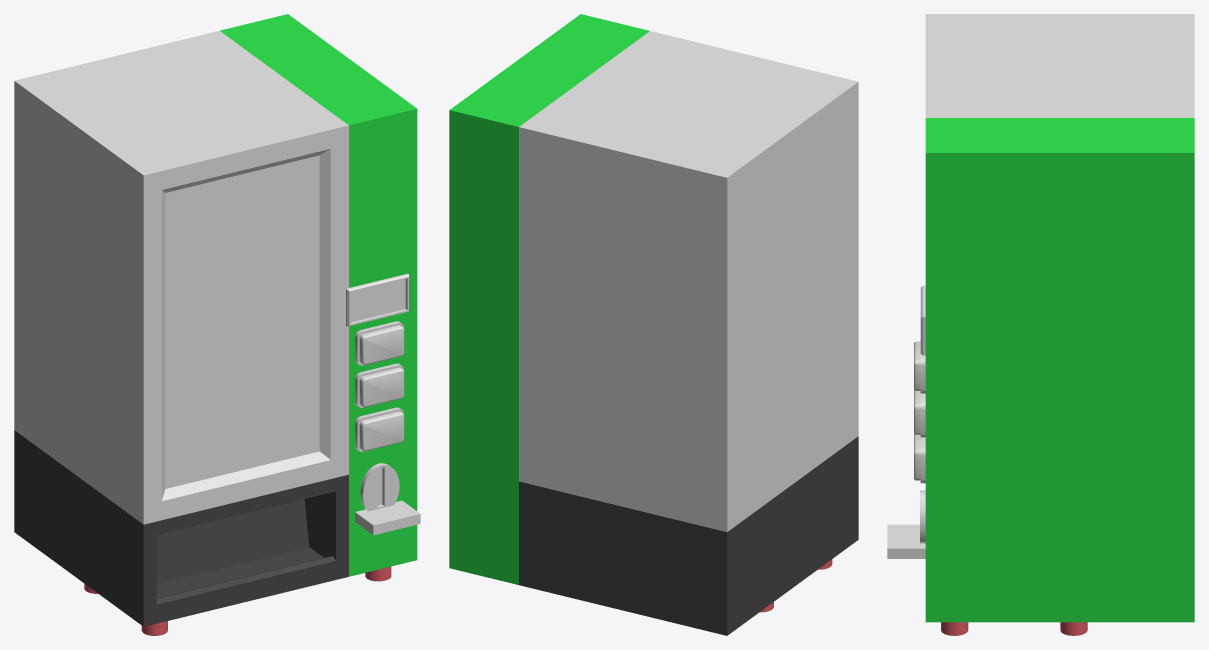
File: Vending.fbx
3 renders of one model, left to right at view 1: azimuth 30°, elevation 25°; view 2: azimuth 150°, elevation 25°; view 3: azimuth 270°, elevation 25°, orthographic. The views are drawn at different scales.
Parts seen in each view (by area): view 1: Cube.007, Cube.015, Cube.014, Cube.031, Cube.009, Cube.013, Cube.011; view 2: Cube.007; view 3: Cube.007, Cube.031.
Part boxes in pixels (left/top/right/bottom): Cube.007: left=14, top=14, right=417, bottom=635; Cube.015: left=346, top=273, right=408, bottom=326; Cube.014: left=360, top=463, right=399, bottom=511; Cube.031: left=355, top=500, right=420, bottom=535; Cube.009: left=359, top=411, right=404, bottom=451; Cube.013: left=359, top=325, right=404, bottom=364; Cube.011: left=359, top=367, right=404, bottom=407; Cube.007: left=449, top=14, right=858, bottom=635; Cube.007: left=925, top=14, right=1194, bottom=635; Cube.031: left=887, top=524, right=925, bottom=558.
Bounding box in the file's own units: 2.44 × 4.02 × 2.28.
